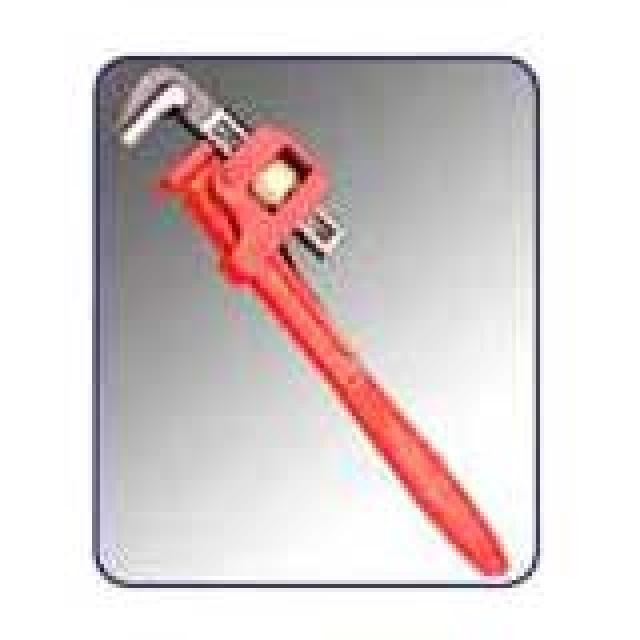wrench: (117, 64, 511, 583)
